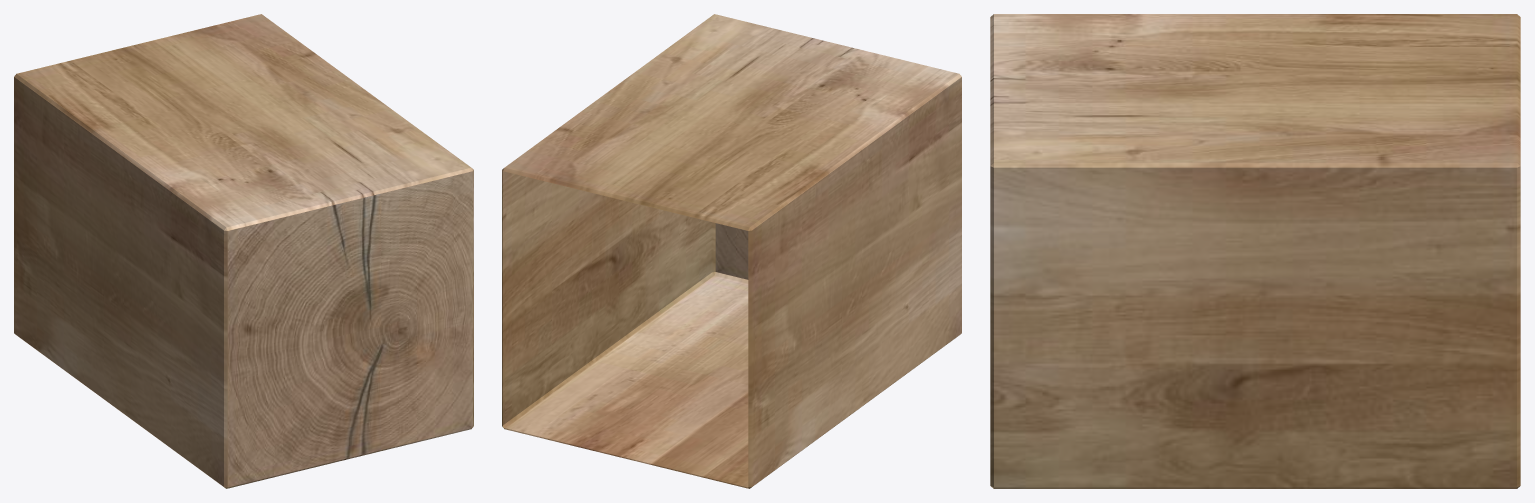
The model's file is SM_Nachttisch.obj.
The picture shows the model from 3 angles, left to right: view 1: azimuth 30°, elevation 25°; view 2: azimuth 150°, elevation 25°; view 3: azimuth 270°, elevation 25°; orthographic projection. The views are drawn at different scales.
Parts seen in each view (by area): view 1: SM_Nachttisch; view 2: SM_Nachttisch; view 3: SM_Nachttisch.
Part boxes in pixels (<box>): SM_Nachttisch: <box>14,14,473,488</box>; SM_Nachttisch: <box>502,14,961,488</box>; SM_Nachttisch: <box>990,14,1520,488</box>.
Size of the model in its own units: 0.312 by 0.312 by 0.46.
